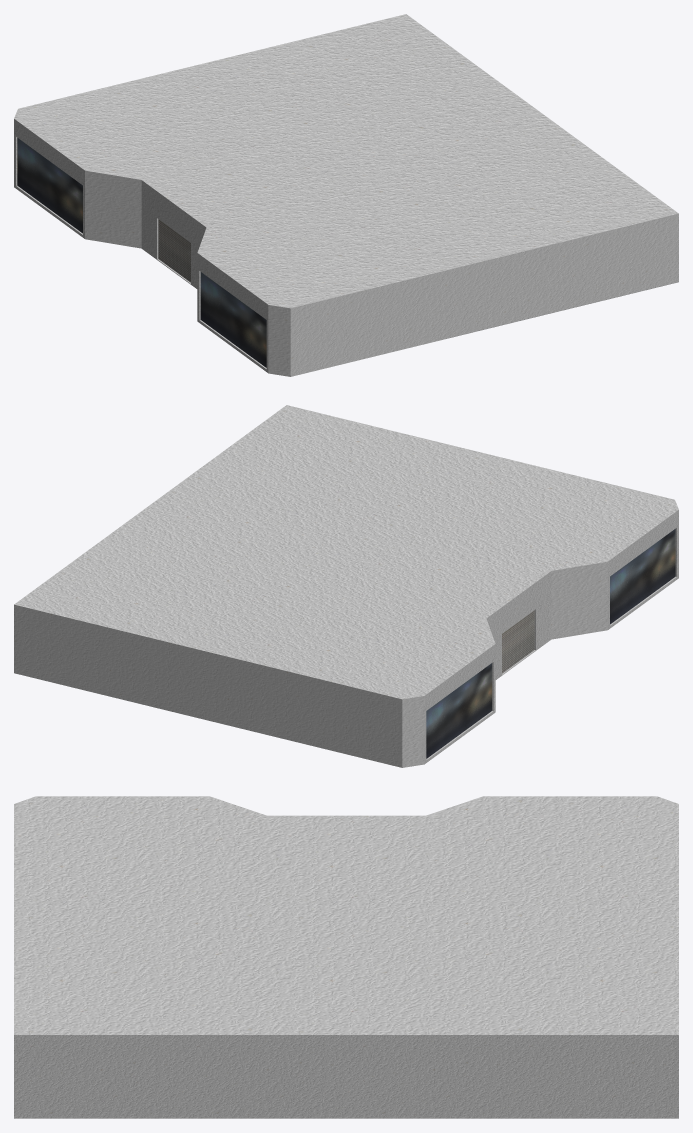
The model's file is Ext Build 5.obj.
3 renders of one model, top to bottom at view 1: azimuth 30°, elevation 25°; view 2: azimuth 150°, elevation 25°; view 3: azimuth 270°, elevation 25°, orthographic. The views are drawn at different scales.
Visible parts, largest first — view 1: Exterior_Building_5_Plane.006; view 2: Exterior_Building_5_Plane.006; view 3: Exterior_Building_5_Plane.006.
Boxes of the visible parts, x1,y1,x2,y2 form: Exterior_Building_5_Plane.006: [14, 14, 678, 376]; Exterior_Building_5_Plane.006: [14, 405, 678, 767]; Exterior_Building_5_Plane.006: [14, 796, 678, 1118].
Bounding box in the file's own units: 30.6 × 5 × 36.
Materials: 1 (1 with a texture image).
